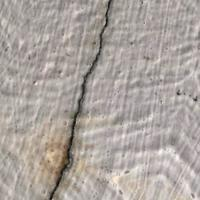crack: (34, 0, 123, 199)
